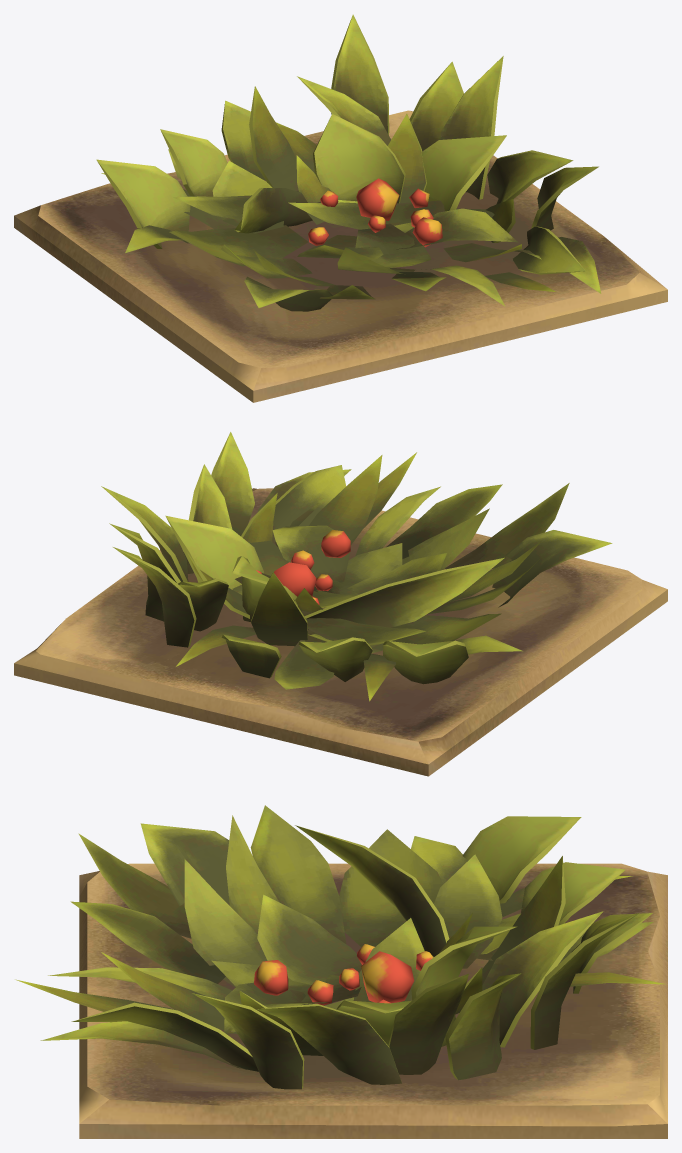
The model's file is S_survive_bush_B.fbx.
The picture shows the model from 3 angles, top to bottom: view 1: azimuth 30°, elevation 25°; view 2: azimuth 150°, elevation 25°; view 3: azimuth 270°, elevation 25°; orthographic projection. The views are drawn at different scales.
Parts seen in each view (by area): view 1: S_survive_bush_B; view 2: S_survive_bush_B; view 3: S_survive_bush_B.
Part boxes in pixels (left/top/right/bottom): S_survive_bush_B: left=14, top=14, right=667, bottom=402; S_survive_bush_B: left=14, top=432, right=667, bottom=776; S_survive_bush_B: left=15, top=805, right=667, bottom=1138.
Size of the model in its own units: 1 by 0.3356 by 1.11.
1 material, 1 textured.
